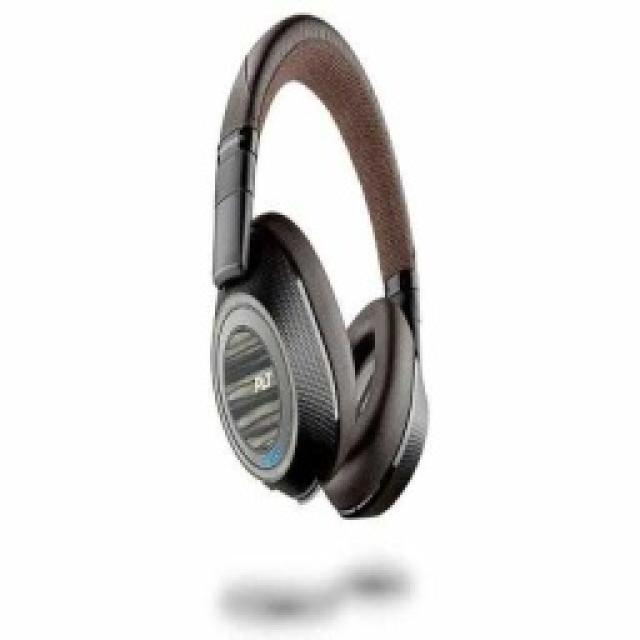headphones: (205, 10, 430, 518)
